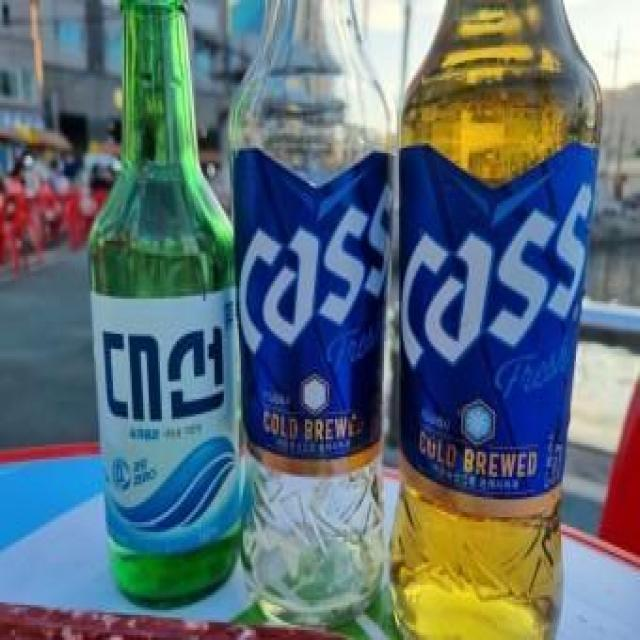beer-bottle: (390, 0, 608, 640), (229, 0, 397, 632)
soju-bottle: (104, 0, 234, 620)
